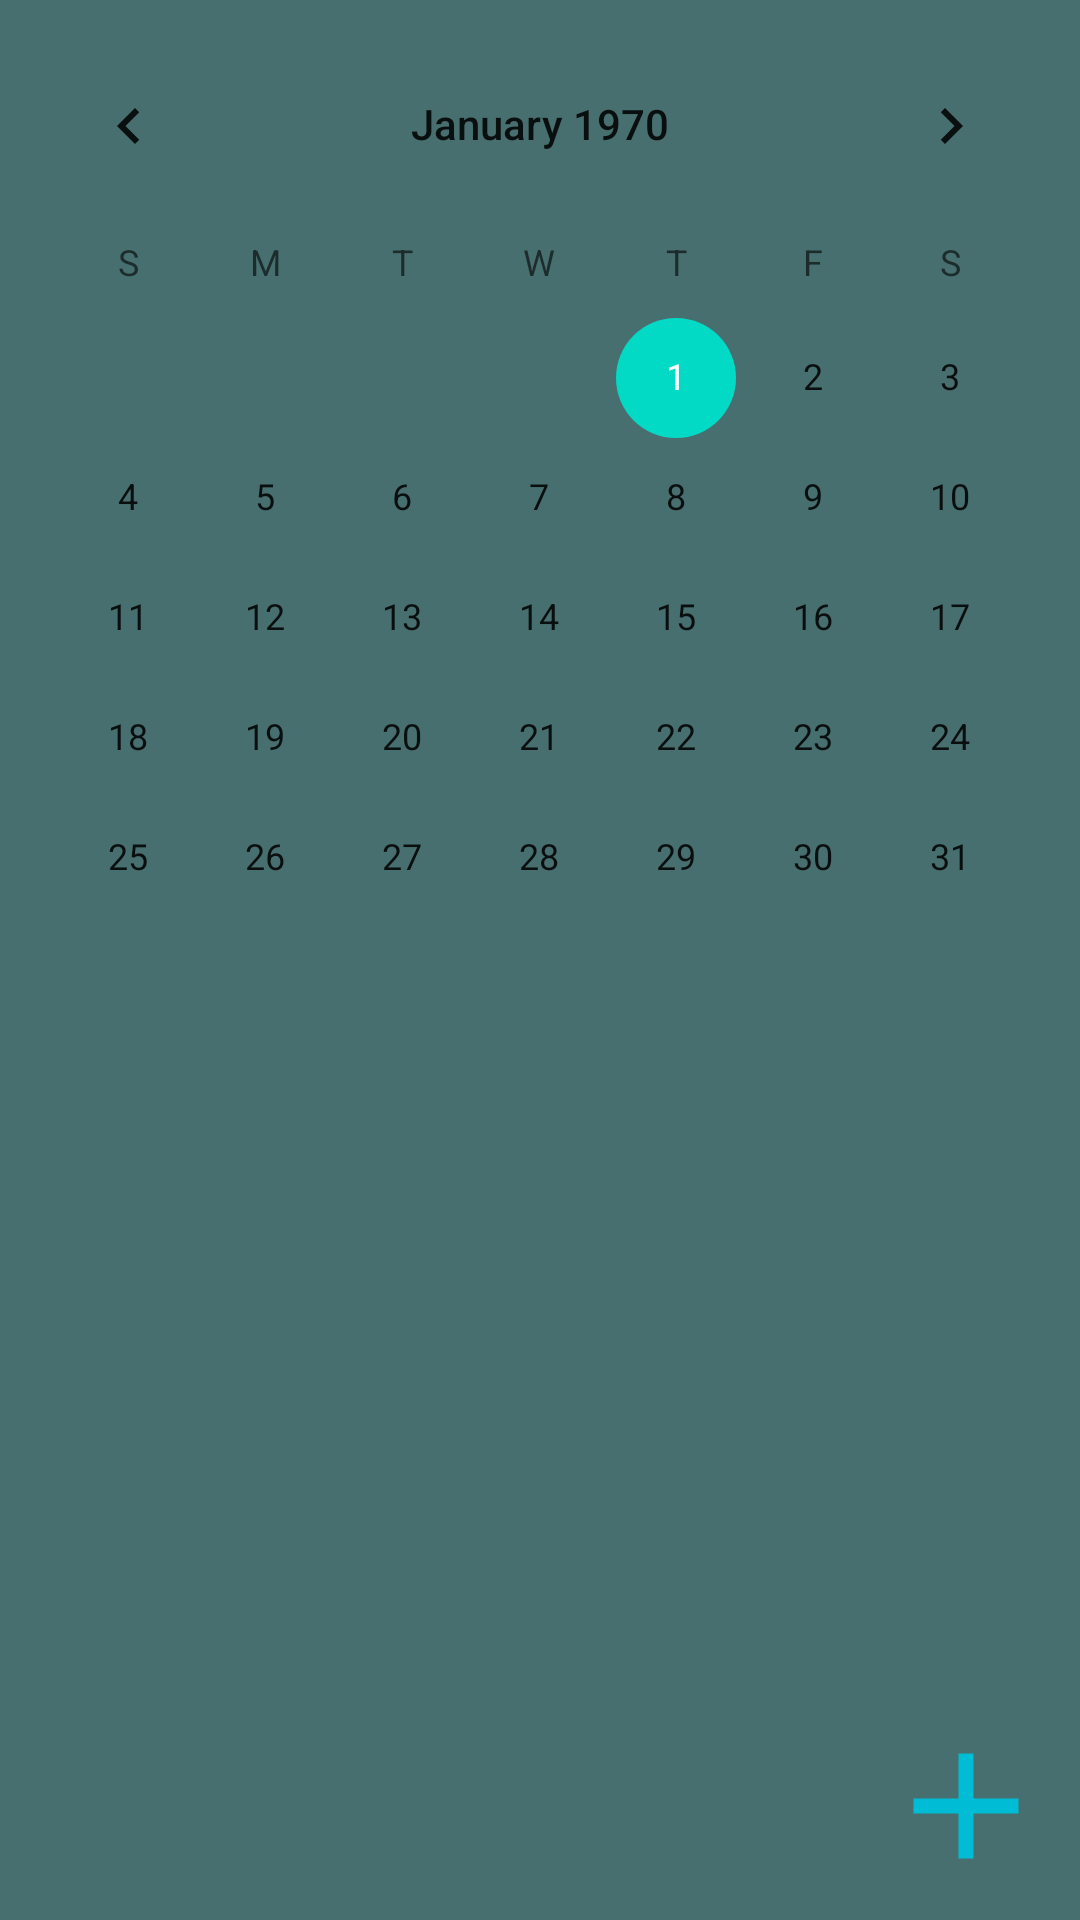

Where icons sit on this 1080 x 1920 app screen, as Rect(x1, y1, x2, y2):
add task: Rect(913, 1753, 1019, 1859)
